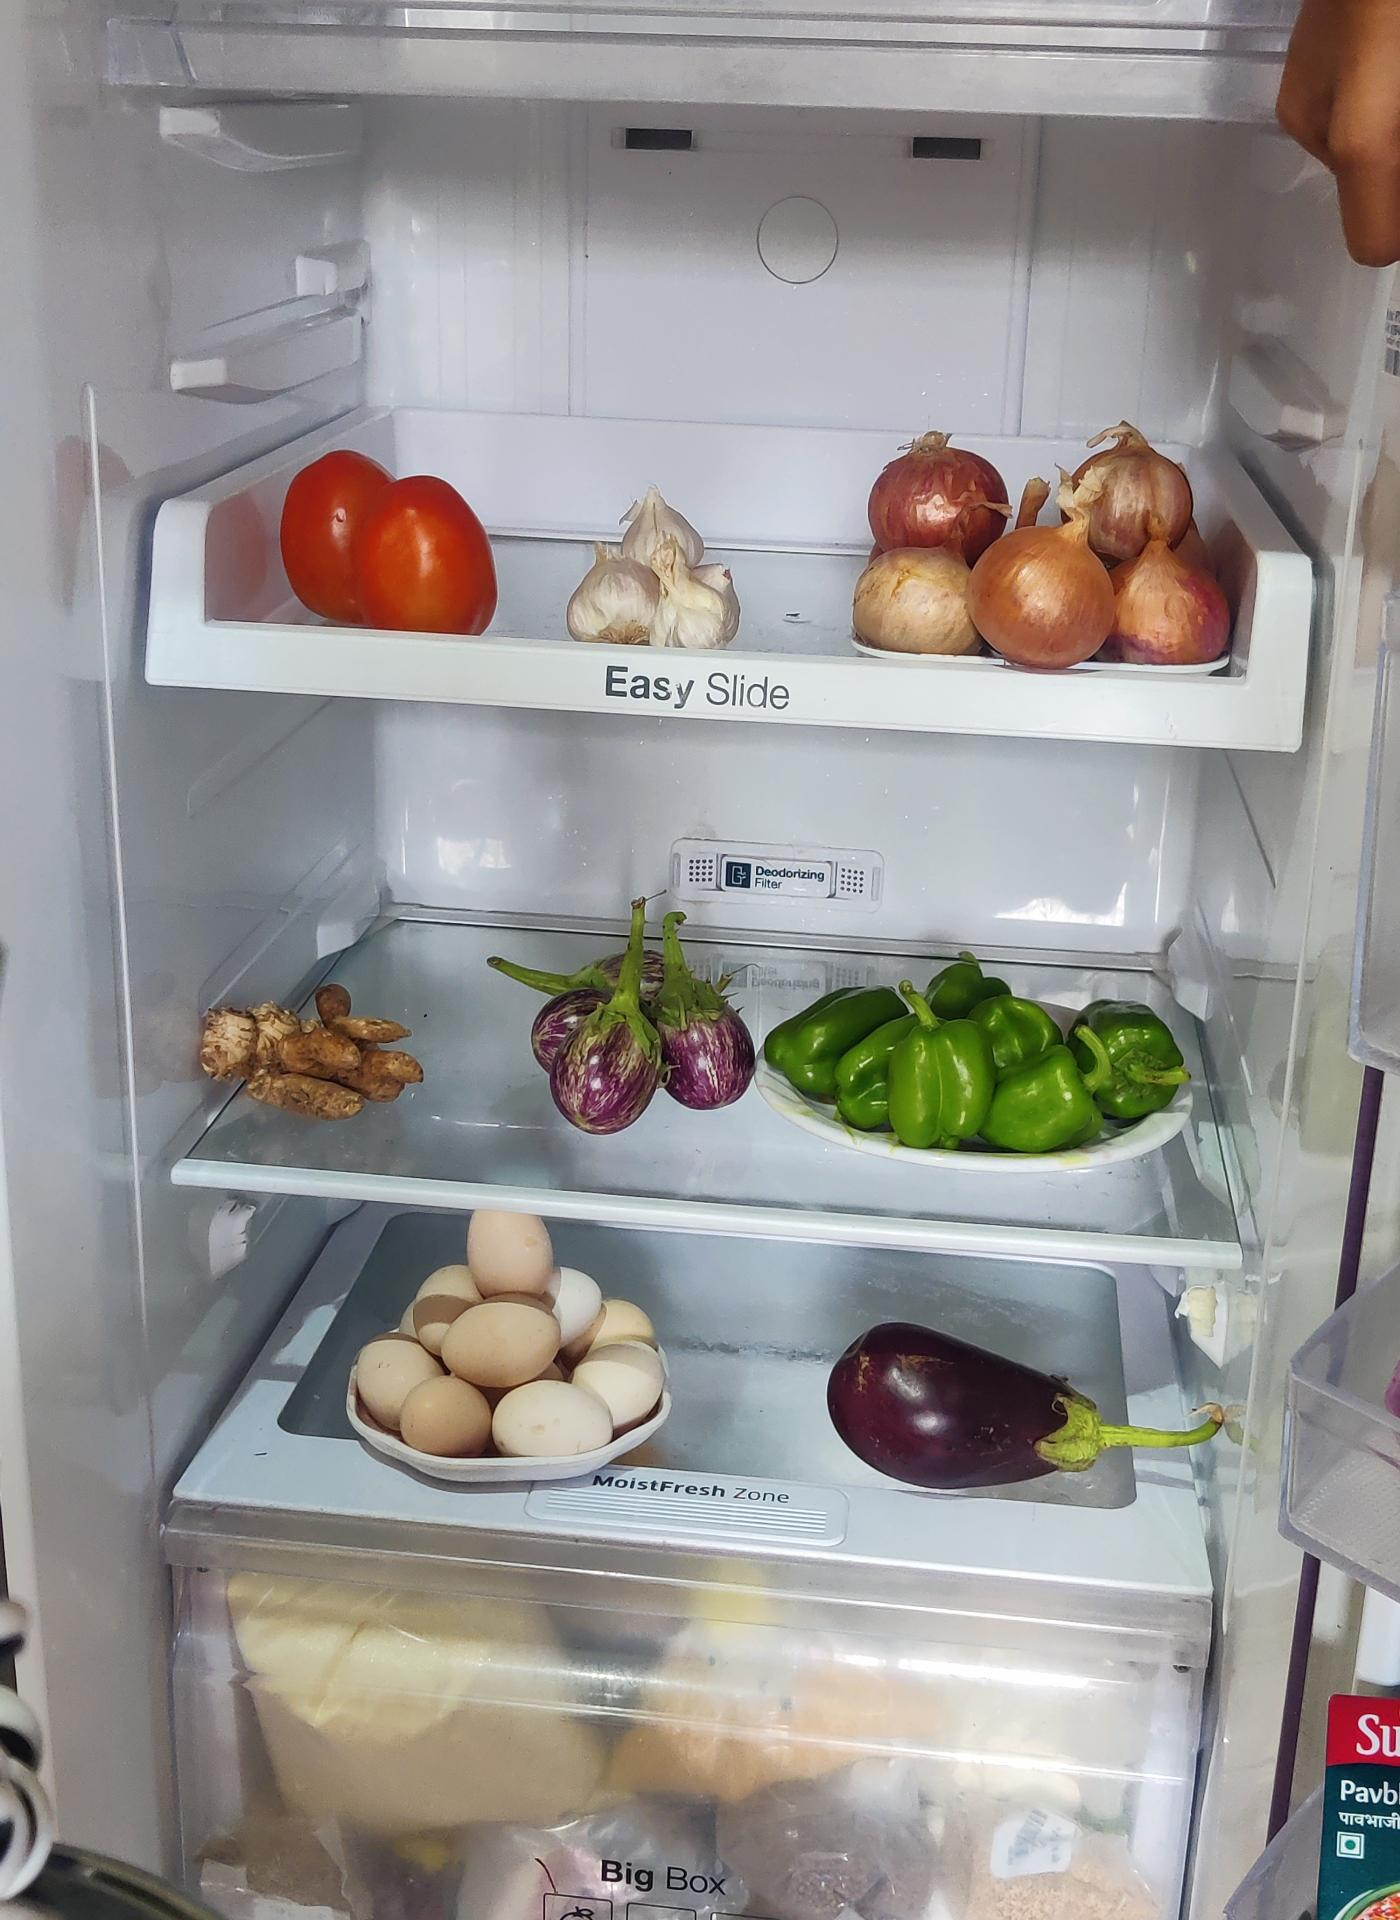brinjal: (813, 1331, 1133, 1511), (529, 936, 754, 1138)
capsicum: (765, 954, 1192, 1153)
egg: (338, 1207, 659, 1461)
garlic: (567, 490, 742, 654)
ginger: (196, 985, 424, 1122)
onion: (844, 426, 1249, 678)
tomato: (286, 456, 505, 642), (1278, 0, 1400, 272)
